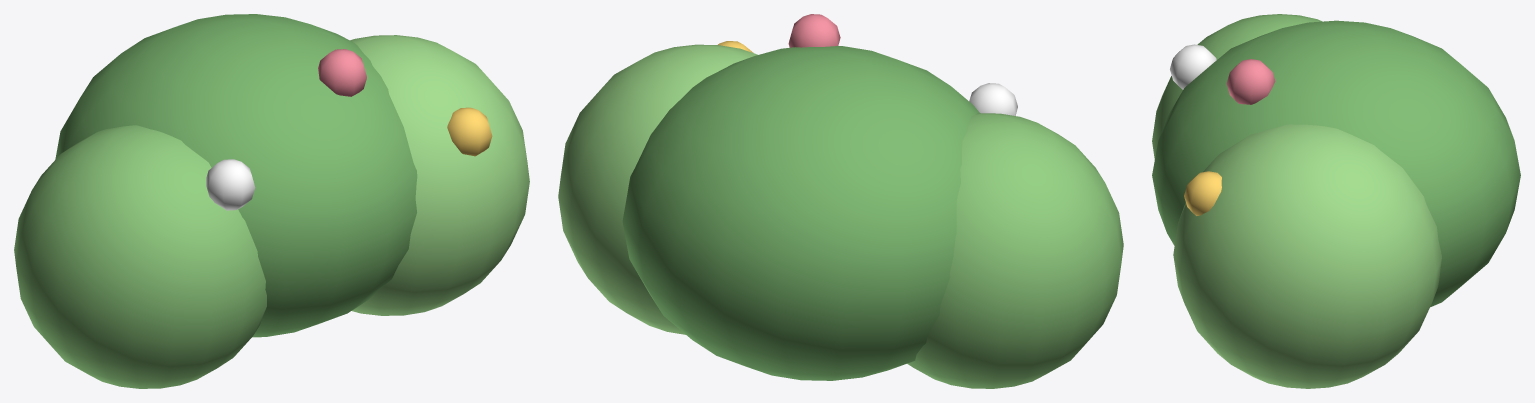
File: bush.glb
3 renders of one model, left to right at view 1: azimuth 30°, elevation 25°; view 2: azimuth 150°, elevation 25°; view 3: azimuth 270°, elevation 25°, orthographic. The views are drawn at different scales.
Parts seen in each view (by area): view 1: Bush; view 2: Bush; view 3: Bush.
Part boxes in pixels (<box>): Bush: <box>14,14,529,388</box>; Bush: <box>558,14,1123,388</box>; Bush: <box>1152,14,1520,388</box>.
Bounding box in the file's own units: 0.77 × 0.435 × 0.52.
